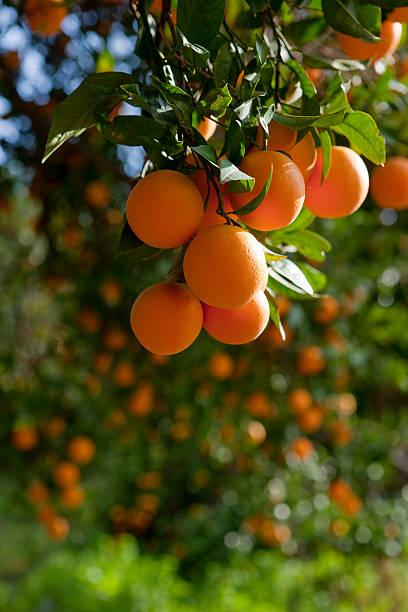orange: (229, 138, 318, 243), (123, 169, 212, 253), (303, 130, 378, 216), (123, 287, 211, 359), (190, 228, 269, 302), (205, 290, 275, 338)
